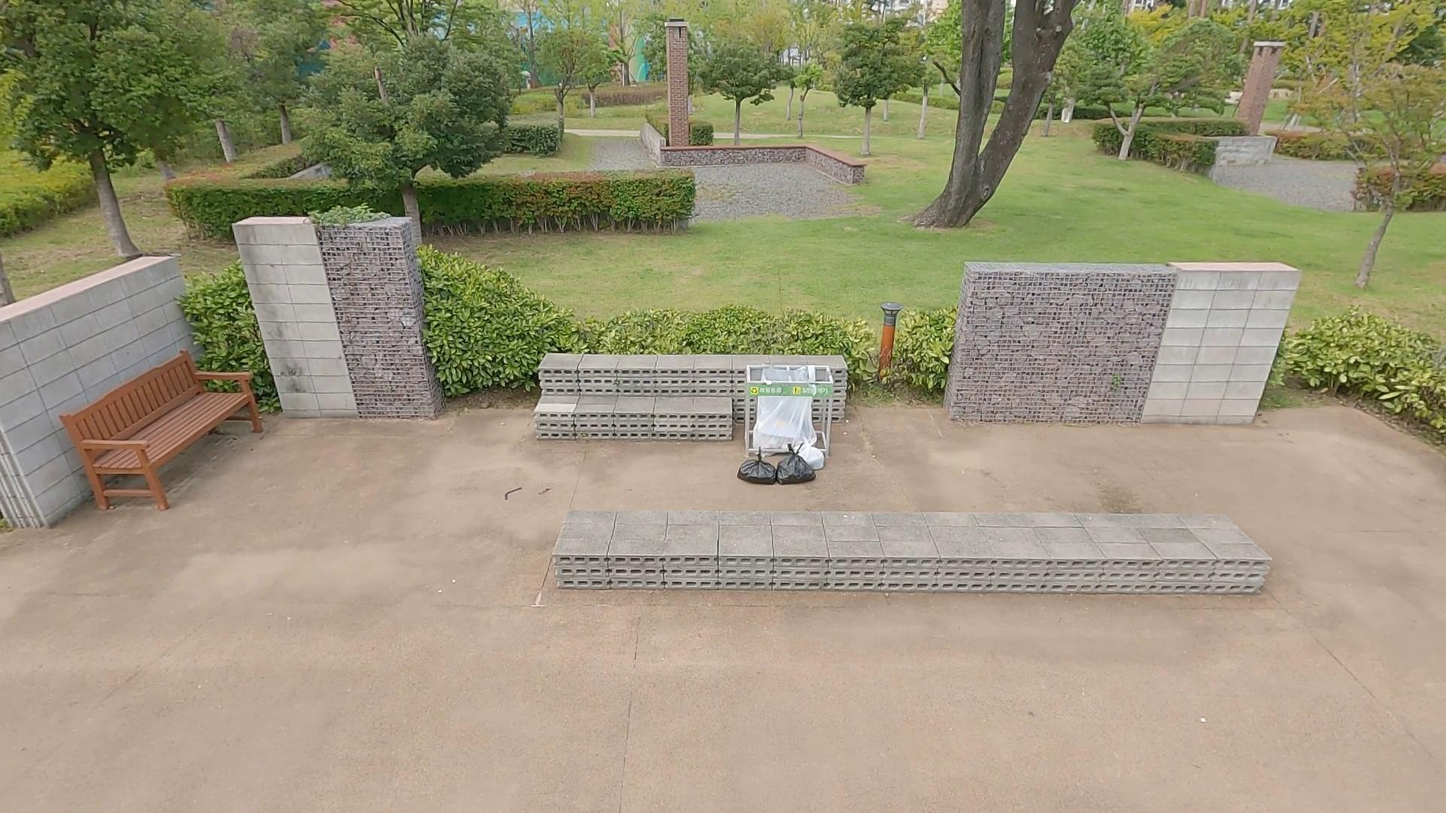trash: (777, 443, 817, 487), (739, 446, 776, 484), (790, 435, 825, 471)
